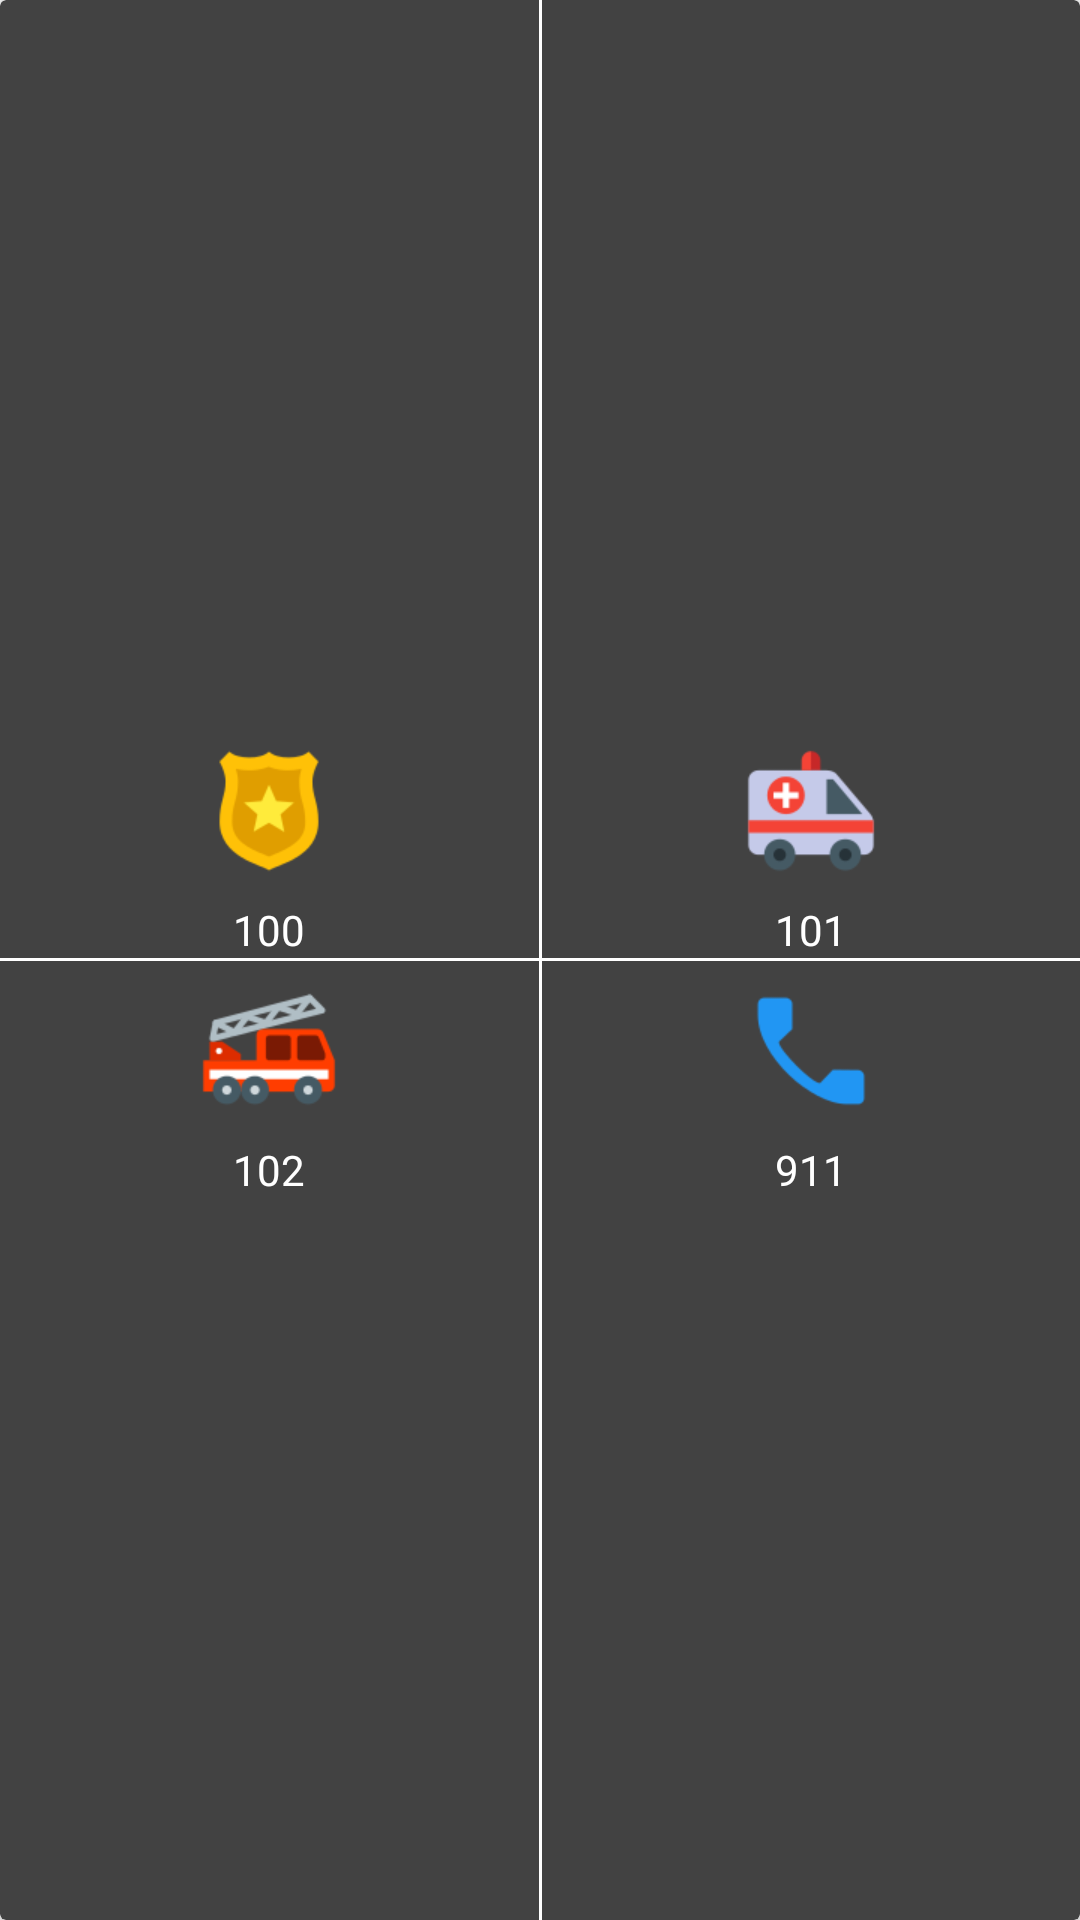

Icons on this 1080px x 1920px Android screen, each with the point to tap as (x=x, y=y):
ambulance: (x=811, y=810)
call: (x=811, y=1051)
cop: (x=269, y=811)
fire: (x=269, y=1048)
